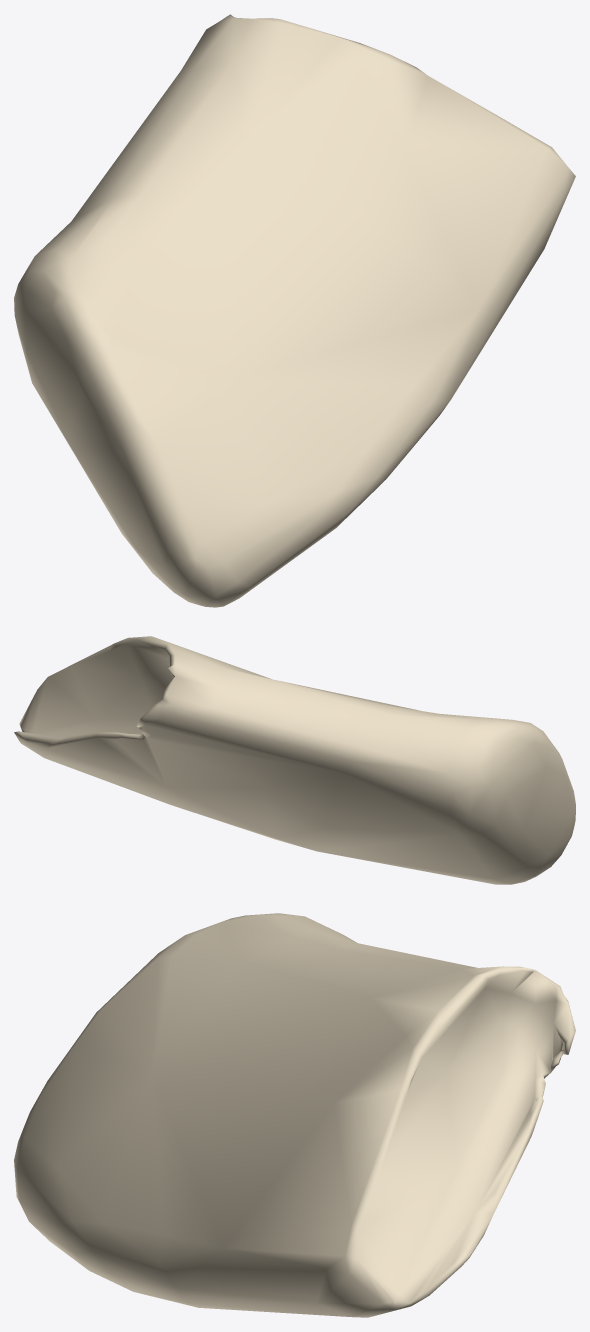
Rendered from costal-cartilage-of-first-rib-l.glb.
3 renders of one model, top to bottom at view 1: azimuth 30°, elevation 25°; view 2: azimuth 150°, elevation 25°; view 3: azimuth 270°, elevation 25°, orthographic. The views are drawn at different scales.
Parts seen in each view (by area): view 1: Costal cartilage of first rib.l; view 2: Costal cartilage of first rib.l; view 3: Costal cartilage of first rib.l.
Boxes of the visible parts, bbox=[...] form: Costal cartilage of first rib.l: bbox=[14, 14, 575, 607]; Costal cartilage of first rib.l: bbox=[14, 636, 575, 884]; Costal cartilage of first rib.l: bbox=[14, 913, 575, 1317].
Bounding box in the file's own units: 0.0309 × 0.0191 × 0.0243.
